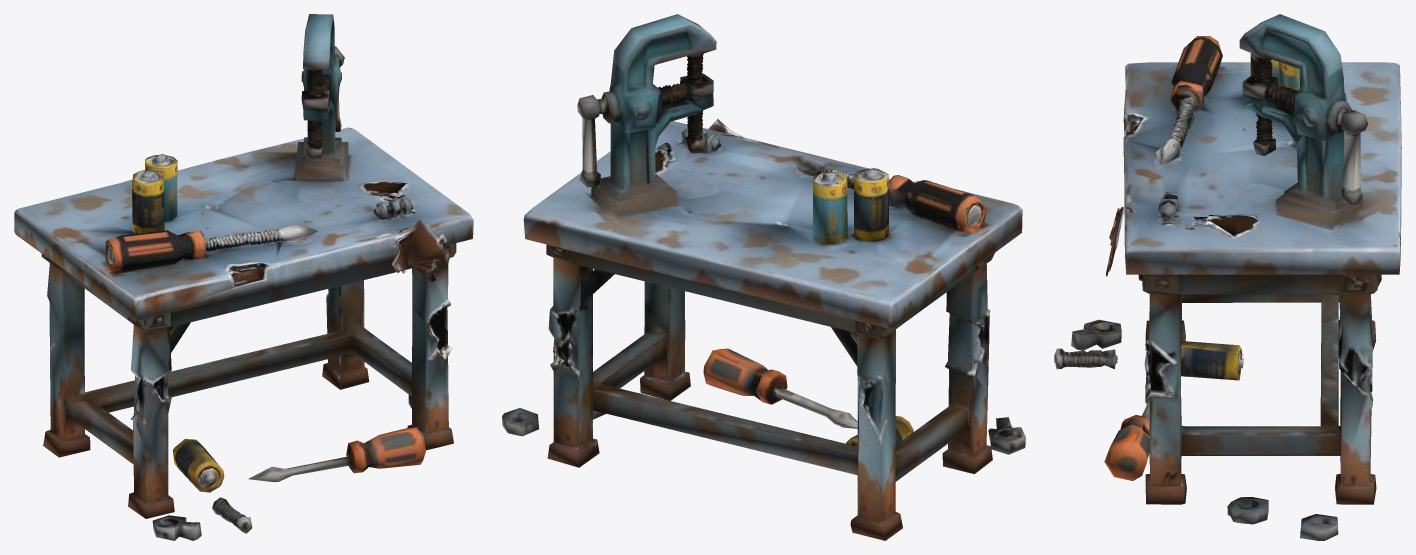
The model's file is fenjieji-1.glb.
3 views of the same model, side by side, from view 1: azimuth 30°, elevation 25°; view 2: azimuth 150°, elevation 25°; view 3: azimuth 270°, elevation 25° (orthographic). The views are drawn at different scales.
Parts seen in each view (by area): view 1: node_0; view 2: node_0; view 3: node_0.
Part boxes in pixels (box(x1,y1,x2,y2)): node_0: box(14, 14, 473, 540); node_0: box(502, 14, 1025, 540); node_0: box(1054, 14, 1401, 540).
Bounding box in the file's own units: 0.836 × 0.801 × 0.5678.
1 material, 1 textured.
